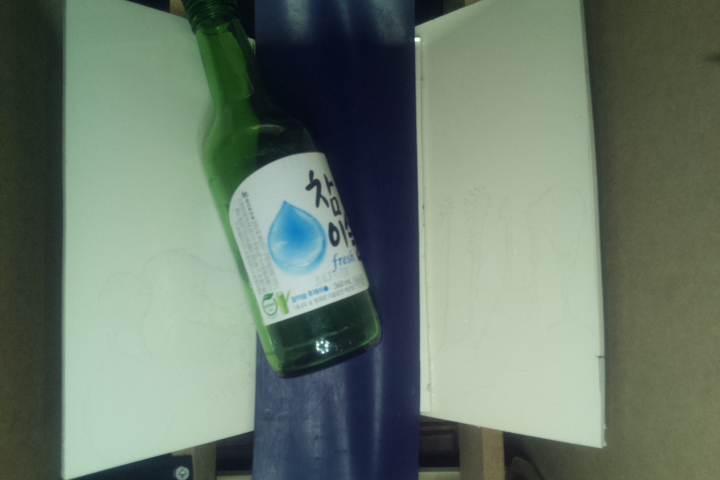soju: (184, 1, 384, 379)
